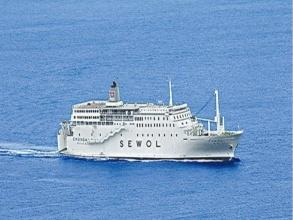otherboat: (53, 80, 242, 161)
